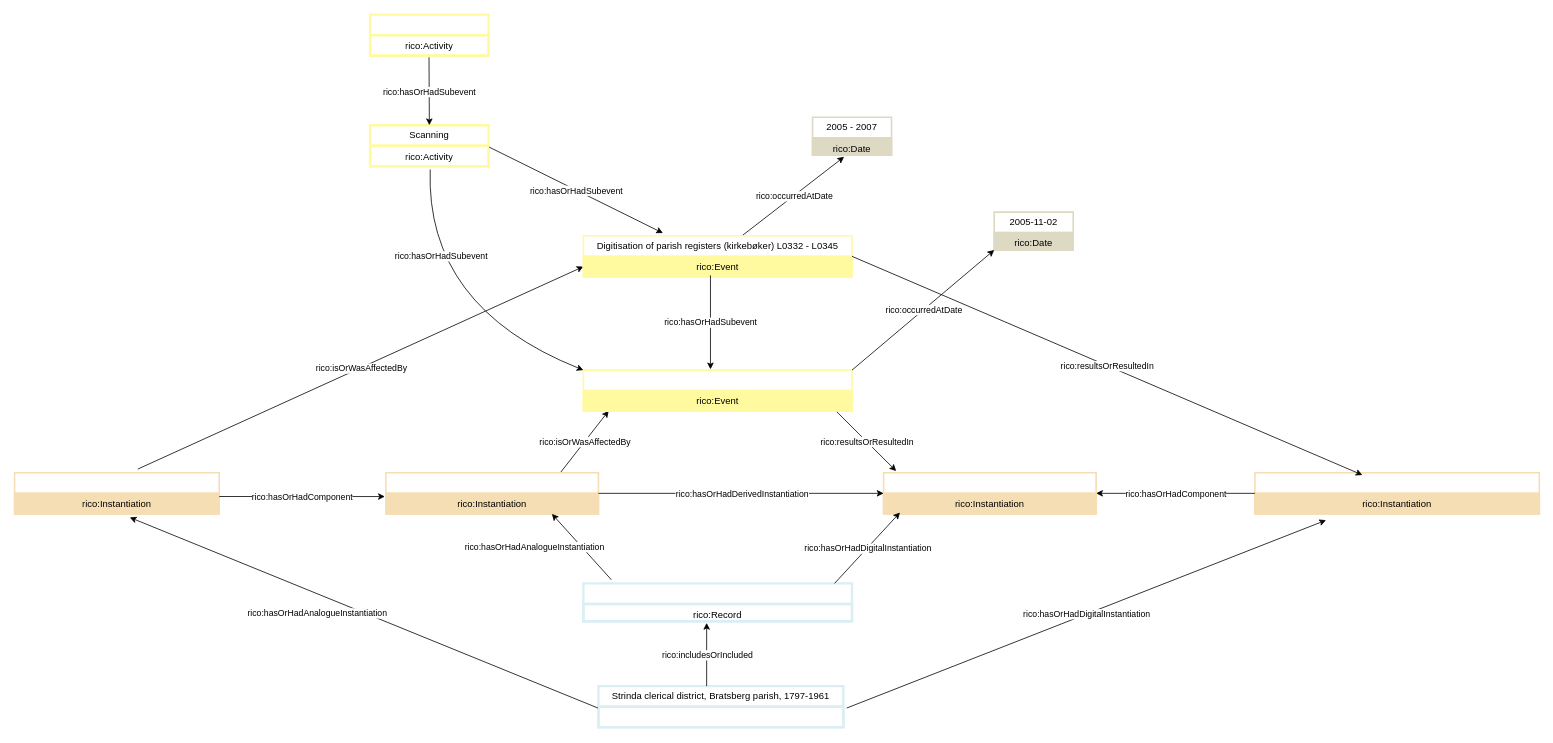
The diagram is 1553 pixels wide and 743 high, and some of its shapes have lost their labels. The shapes that lost their labels are listed below. From the top down, each one's box as (x1, y1, x2, y2) in pixels, then its label:
(369, 13, 489, 56): Digitisation
(582, 369, 852, 412): Digitisation of Deacon Book (Klokkerbok) L0343
(13, 472, 220, 514): Parish registers (Kirkebøker) L0332 - L0345
(385, 472, 599, 514): Deacon Book (Klokkerbok) L0343
(882, 472, 1097, 514): Digitised Deacon Book (Klokkerbok) L0343
(1254, 472, 1540, 514): Digitised Parish registers (Kirkebøker) L0332 - L0345
(582, 582, 853, 622): Strinda clerical district, Bratsberg parish, 1938-1952
(597, 705, 844, 728): rico:RecordSet
